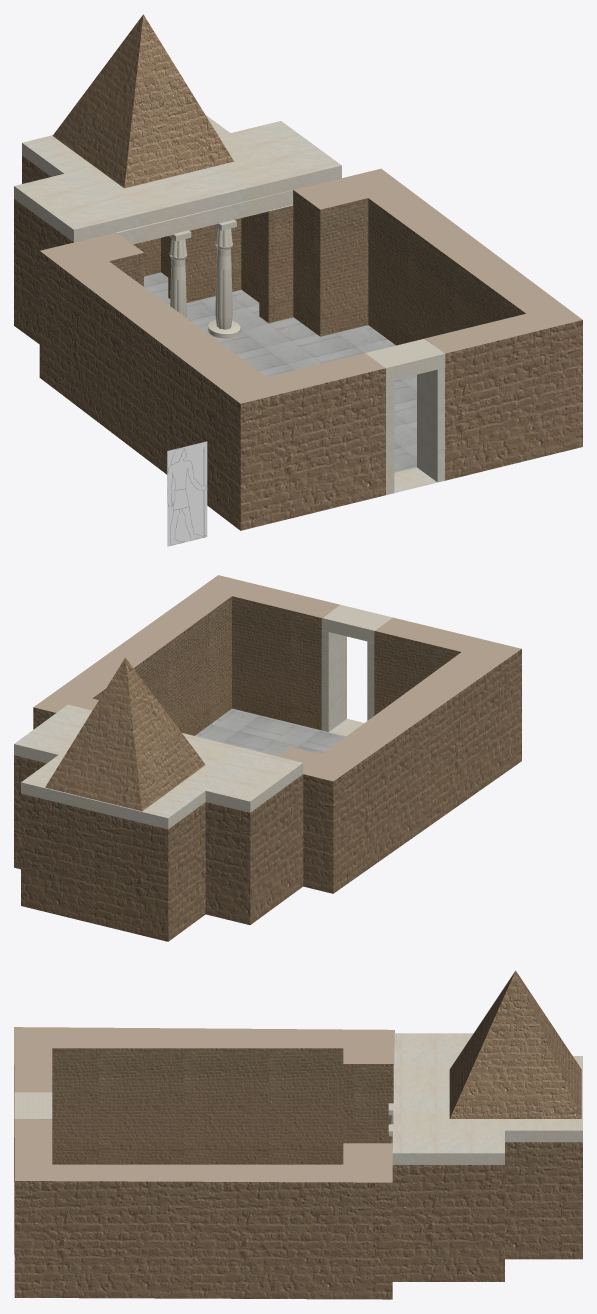
The model's file is NK_Chapel.glb.
3 views of the same model, one above another, from view 1: azimuth 30°, elevation 25°; view 2: azimuth 150°, elevation 25°; view 3: azimuth 270°, elevation 25° (orthographic). The views are drawn at different scales.
Parts seen in each view (by area): view 1: Mesh7 Model, Mesh6 Component_8_1 Model, Mesh8 Model, Mesh9 Model, Mesh5 Component_7_1 Model, Mesh1 Component_13_1 Model, Mesh3 Component_13_2 Model; view 2: Mesh7 Model, Mesh8 Model, Mesh6 Component_8_1 Model; view 3: Mesh7 Model, Mesh8 Model, Mesh6 Component_8_1 Model.
Boxes of the visible parts, left/top/right/bottom form: Mesh7 Model: left=14, top=156, right=582, bottom=530; Mesh6 Component_8_1 Model: left=14, top=115, right=341, bottom=242; Mesh8 Model: left=52, top=14, right=233, bottom=188; Mesh9 Model: left=167, top=441, right=207, bottom=546; Mesh5 Component_7_1 Model: left=117, top=190, right=292, bottom=244; Mesh1 Component_13_1 Model: left=214, top=220, right=236, bottom=329; Mesh3 Component_13_2 Model: left=169, top=230, right=191, bottom=317; Mesh7 Model: left=14, top=575, right=521, bottom=941; Mesh8 Model: left=45, top=657, right=205, bottom=811; Mesh6 Component_8_1 Model: left=14, top=704, right=303, bottom=829; Mesh7 Model: left=14, top=1027, right=582, bottom=1299; Mesh8 Model: left=449, top=970, right=581, bottom=1118; Mesh6 Component_8_1 Model: left=392, top=1033, right=582, bottom=1164.
Bounding box in the file's own units: 7.3 × 4.59 × 9.36.
Materials: 10 (8 with a texture image).
